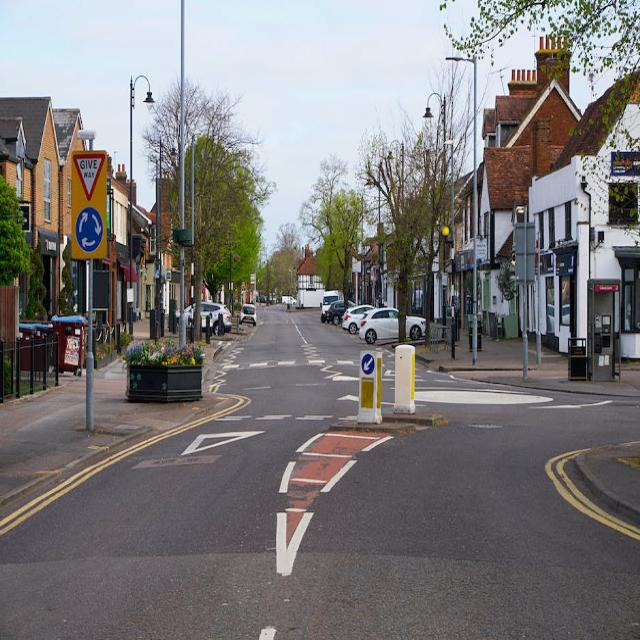roundabout: (75, 208, 104, 252)
